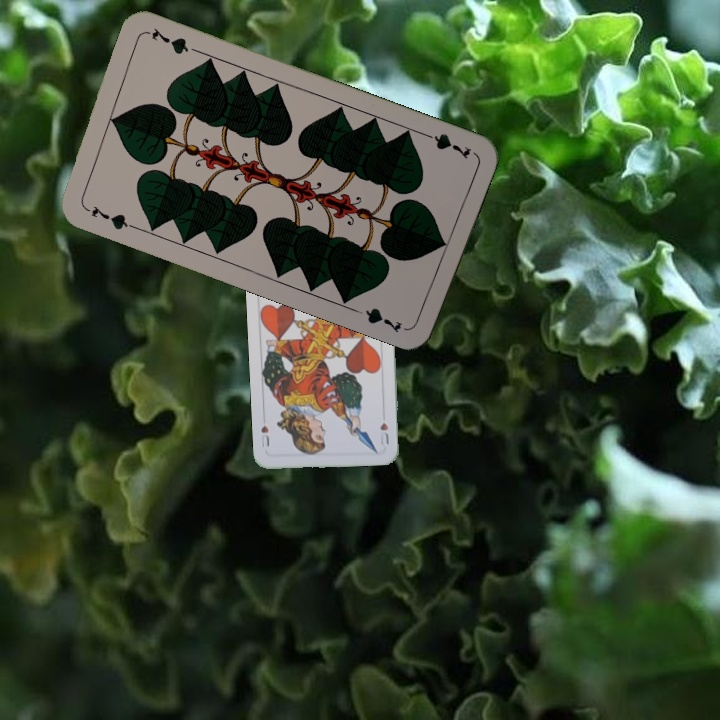G7: (417, 128, 474, 162), (80, 201, 137, 233)
HU: (376, 419, 391, 448)
